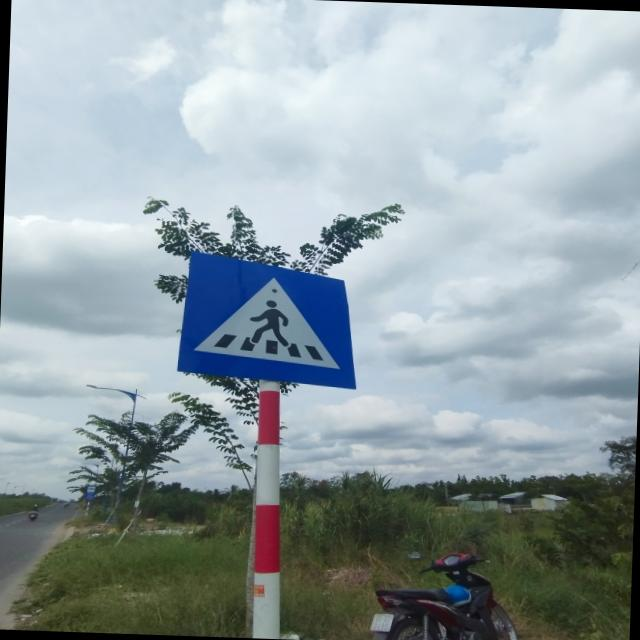Giao_Nhau_Duong_Uu_Tien: (174, 250, 363, 390)
